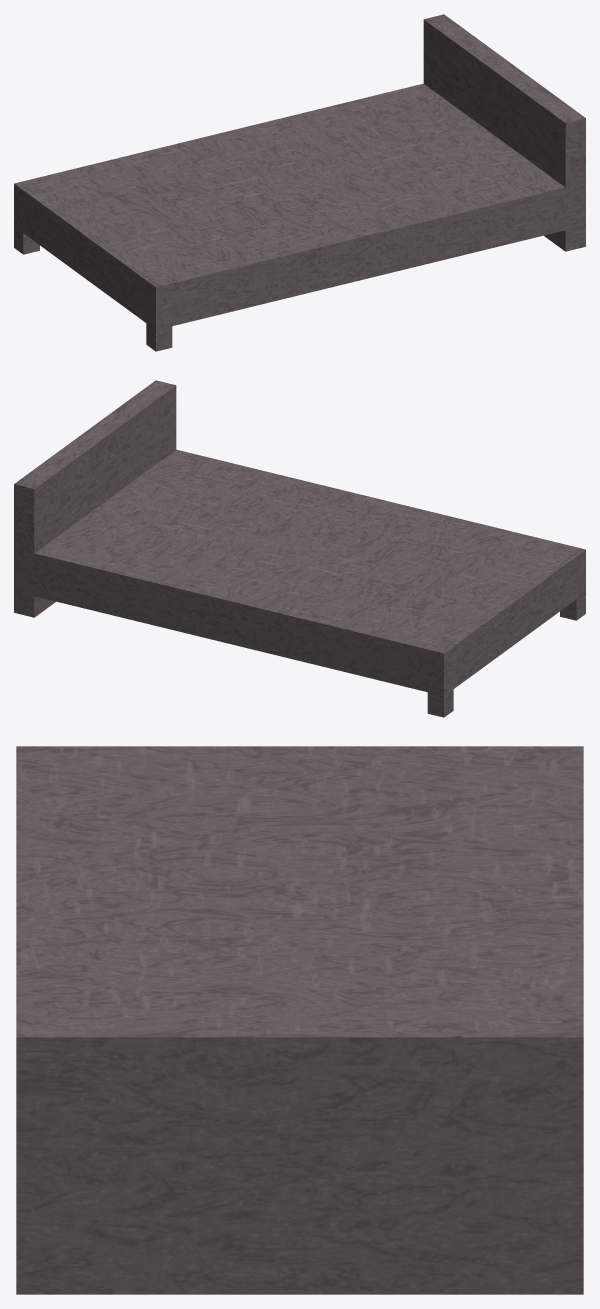
The model's file is Bed.glb.
The picture shows the model from 3 angles, top to bottom: view 1: azimuth 30°, elevation 25°; view 2: azimuth 150°, elevation 25°; view 3: azimuth 270°, elevation 25°; orthographic projection. The views are drawn at different scales.
Parts seen in each view (by area): view 1: Bed; view 2: Bed; view 3: Bed.
Part boxes in pixels (left/top/right/bottom): Bed: left=14, top=14, right=585, bottom=351; Bed: left=14, top=380, right=585, bottom=717; Bed: left=16, top=746, right=583, bottom=1294.
Bounding box in the file's own units: 10.5 × 3 × 6.
Materials: 1 (1 with a texture image).
